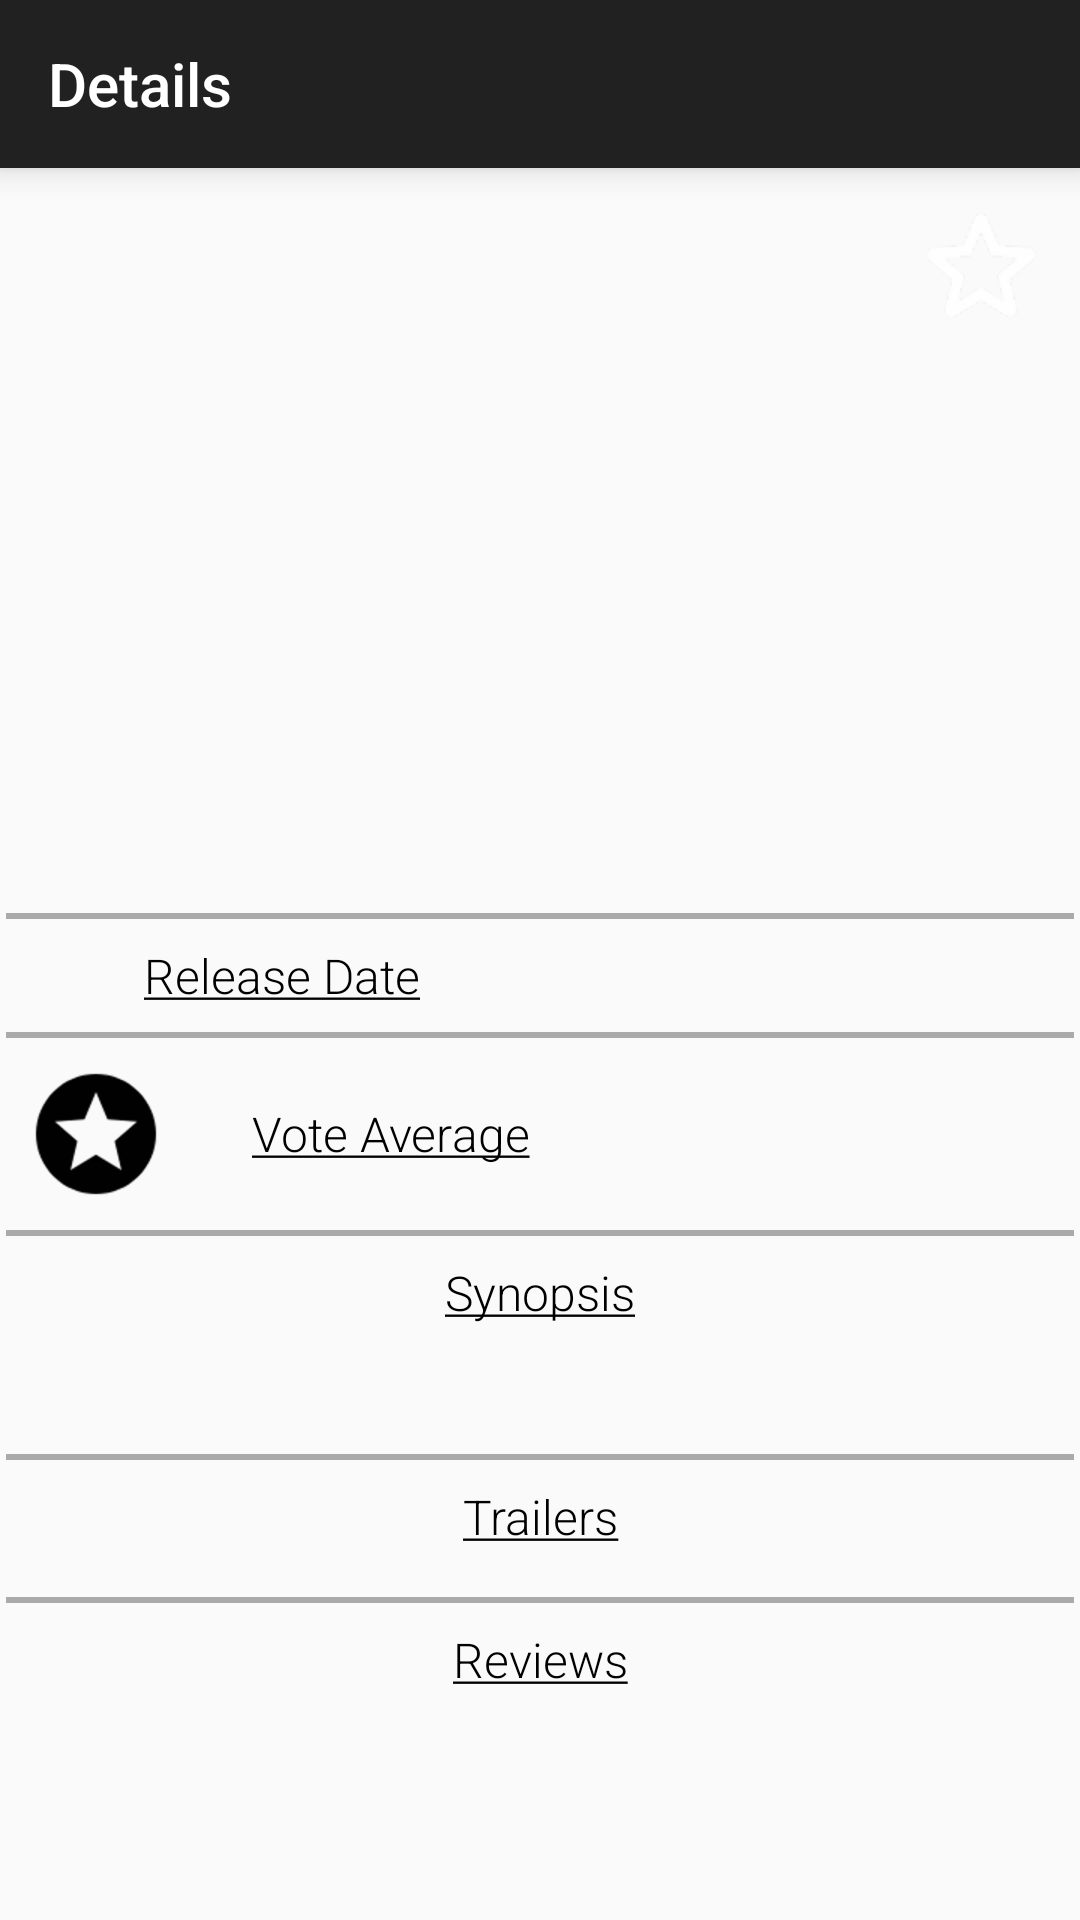

Named icons in this screenshot (1080x1920) and their centers, (x,y):
stars: (96,1134)
